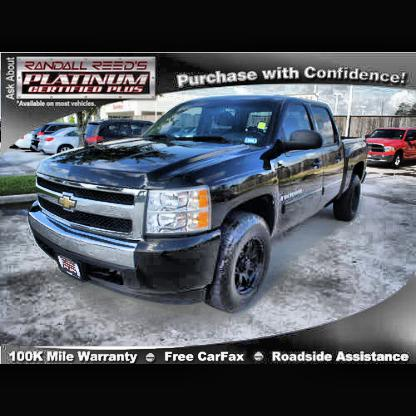Chevrolet Silverado 1500 Hybrid Crew Cab 2012: (30, 96, 369, 318)
